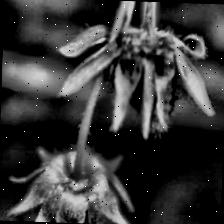Gray Mold: (54, 17, 217, 141)
